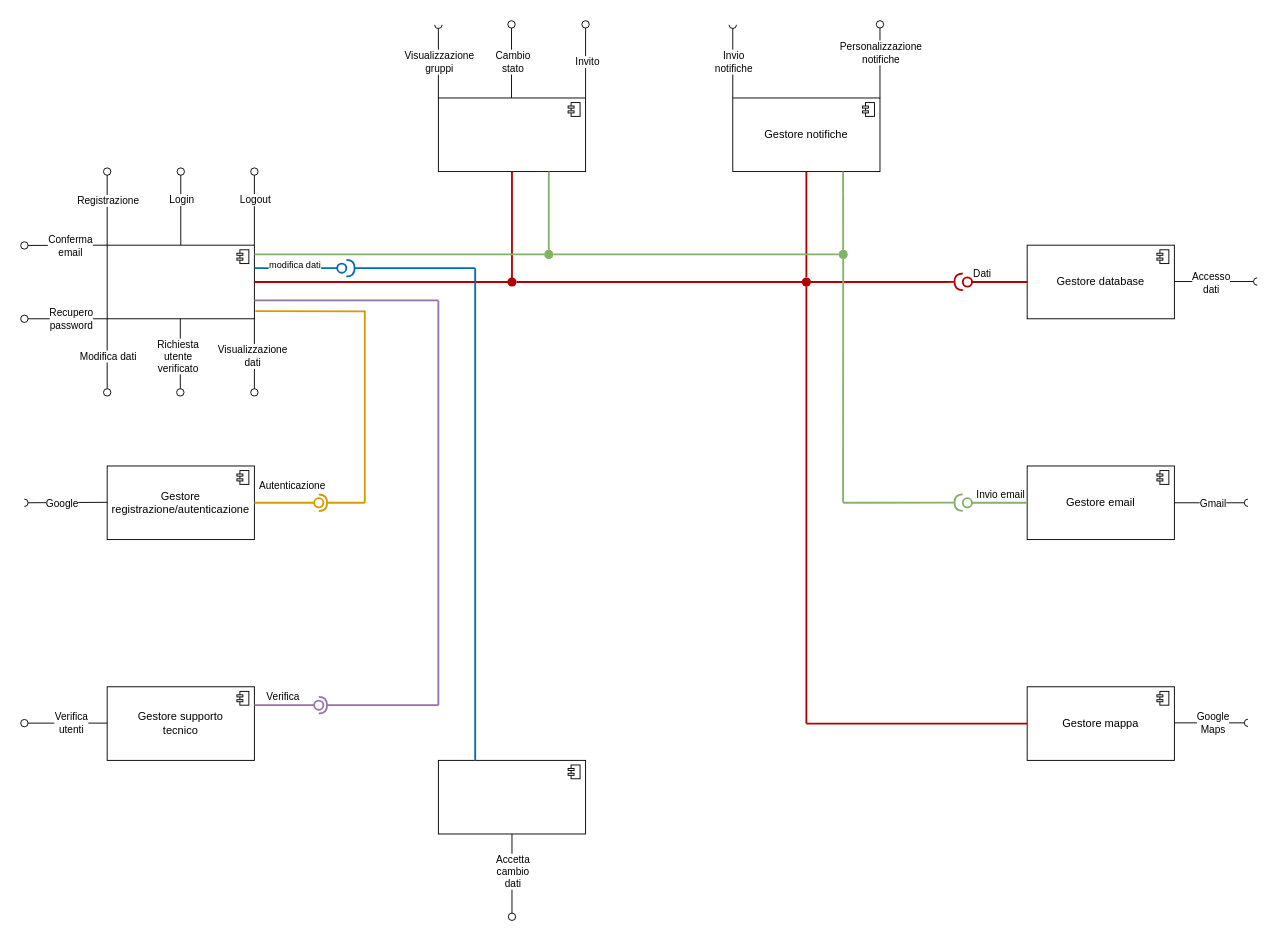
This 1277x942 diagram has some shape labels left out. Here are the shapes that lost their labels. From the top down, the centre of each, then its label:
pixel 511 134: Gestione gruppi
pixel 180 281: Gestore utente
pixel 511 796: Gestore supervisore
